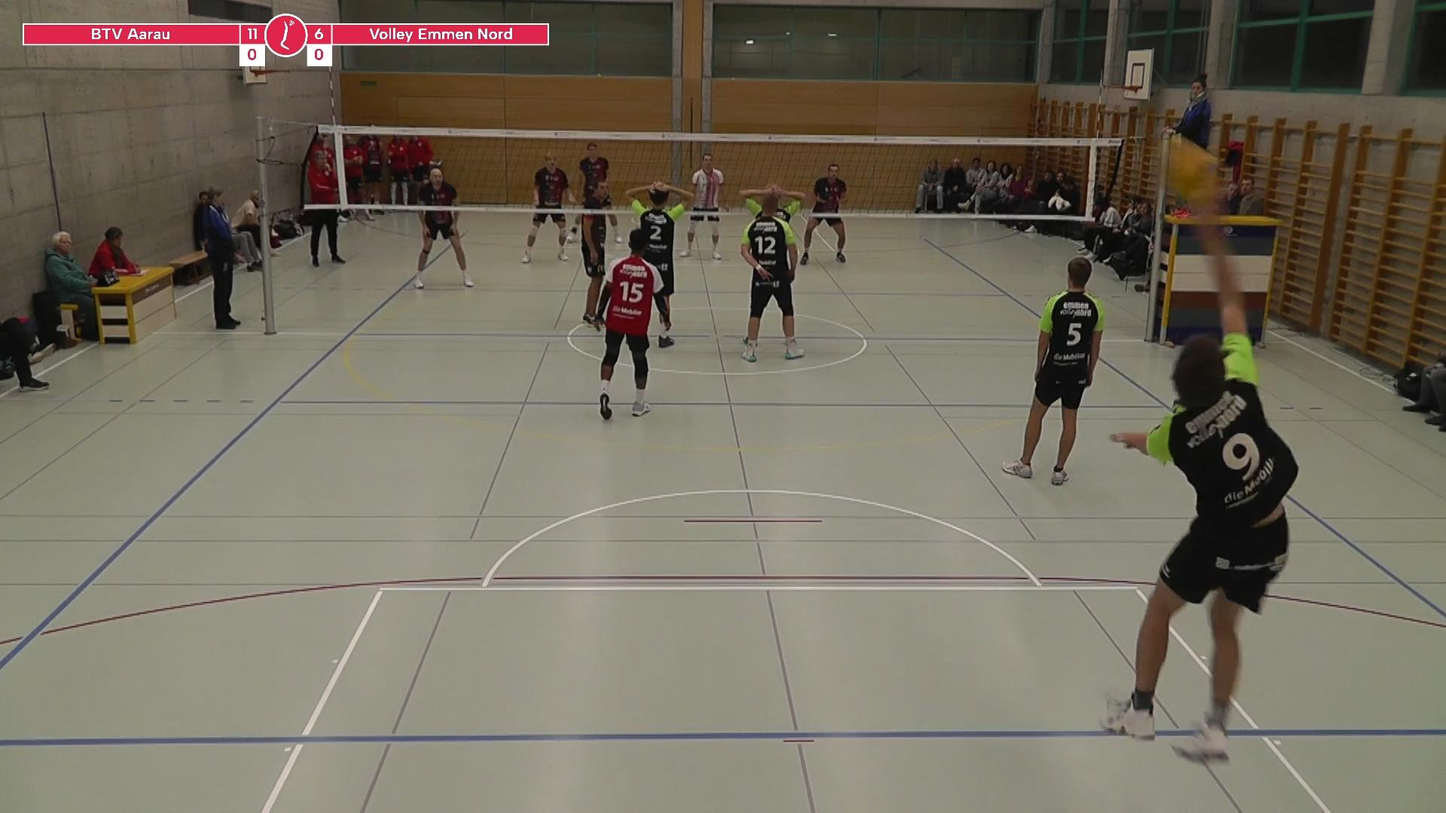Player: (1003, 257, 1103, 485), (595, 228, 663, 419), (626, 181, 694, 347), (740, 193, 803, 361), (414, 168, 473, 289), (522, 153, 575, 263), (581, 179, 615, 330), (800, 163, 847, 263), (681, 153, 723, 260), (578, 142, 609, 192)
Serve: (1101, 183, 1300, 779)
ball: (1152, 127, 1227, 210)
